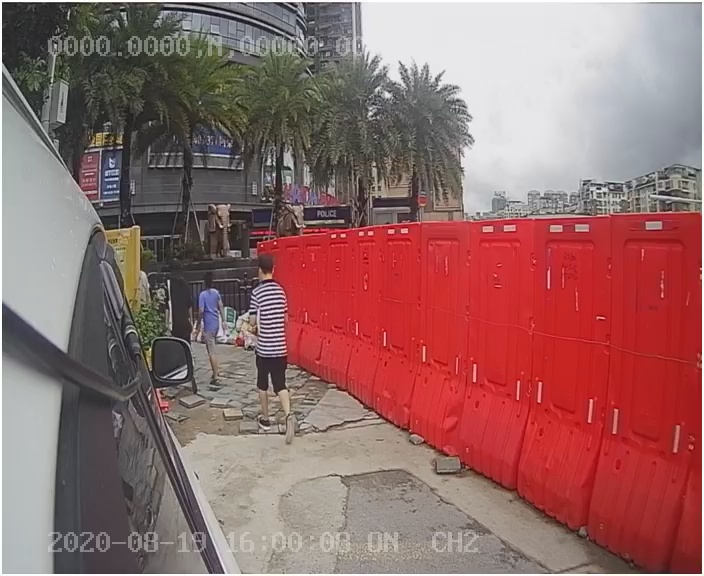person: (238, 249, 313, 448)
